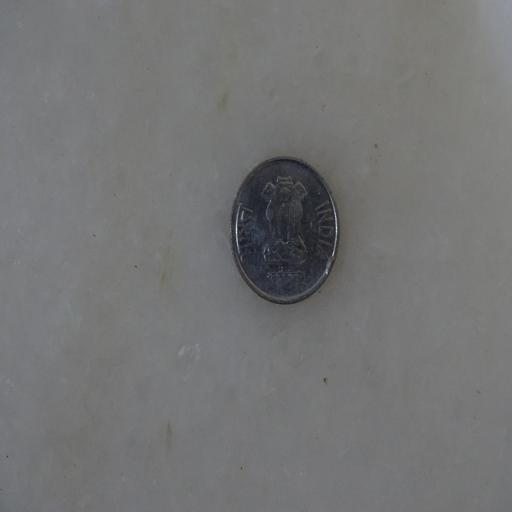rupee1: (228, 156, 339, 303)
